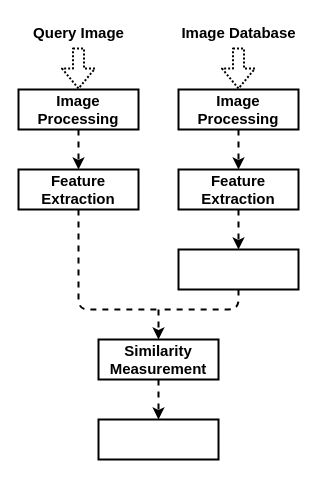
The diagram is 320 pixels wide and 477 high, and some of its shapes have lost their labels. Here are the shapes that lost their labels. From the top down, the centre of each, then its label:
At (238,269): "Feature Database".
At (158,439): "Retrieved Images".
